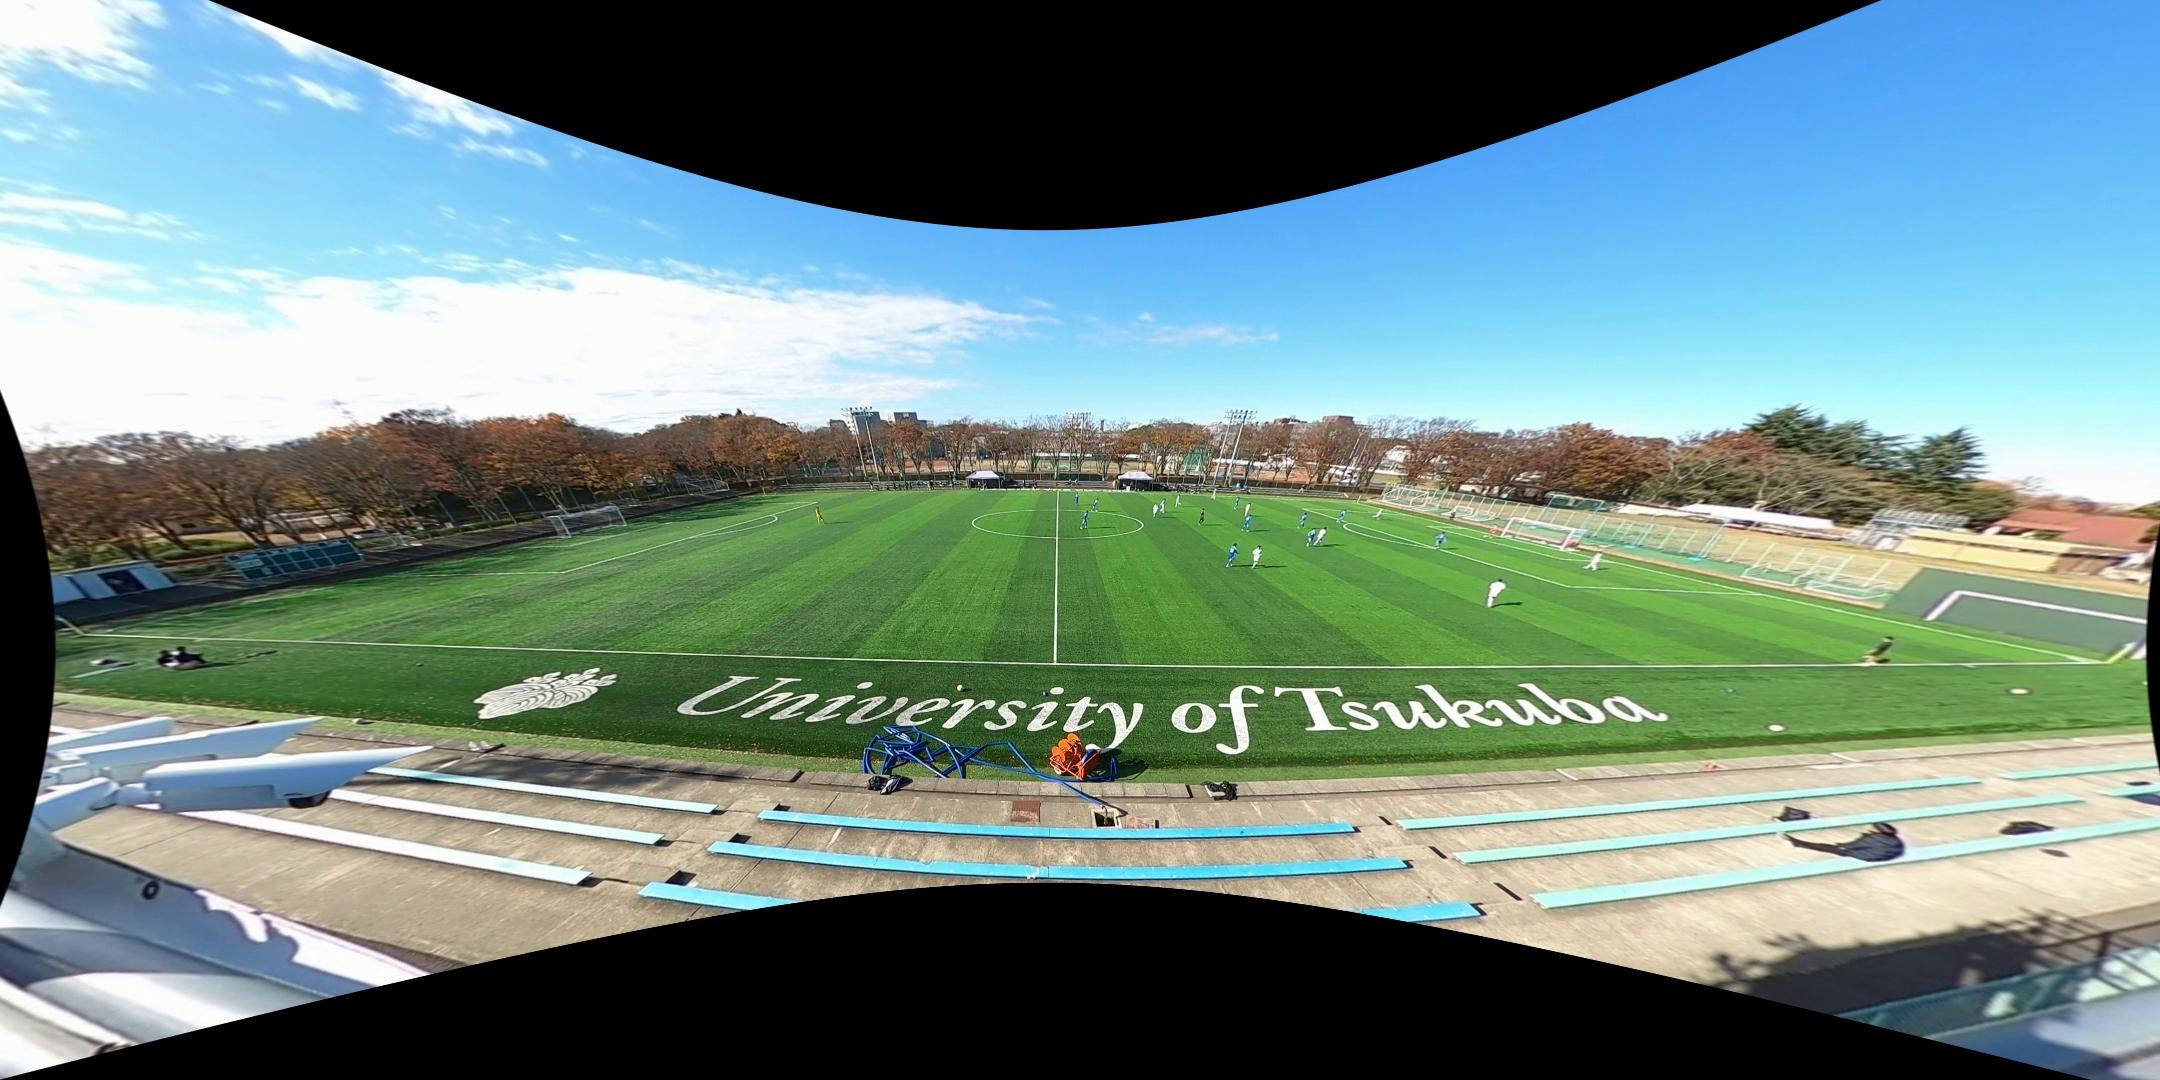person: (1864, 636, 1895, 666), (1488, 576, 1506, 607), (1582, 551, 1603, 571), (1226, 543, 1239, 567), (1313, 526, 1328, 546), (1251, 545, 1262, 568), (1484, 524, 1500, 539), (1435, 531, 1448, 549), (815, 506, 827, 524), (1306, 528, 1317, 547), (1241, 514, 1252, 532), (1372, 507, 1386, 520), (1080, 510, 1089, 529), (1336, 509, 1347, 523), (1090, 498, 1100, 513), (1297, 513, 1307, 528), (1152, 503, 1160, 518), (1159, 498, 1167, 513), (1198, 508, 1205, 525), (1175, 493, 1182, 507), (1244, 503, 1251, 517), (1074, 492, 1080, 506), (1234, 496, 1240, 510), (1212, 488, 1218, 500)
sports ball: (2009, 682, 2032, 700), (1767, 719, 1790, 735), (956, 683, 966, 692)
